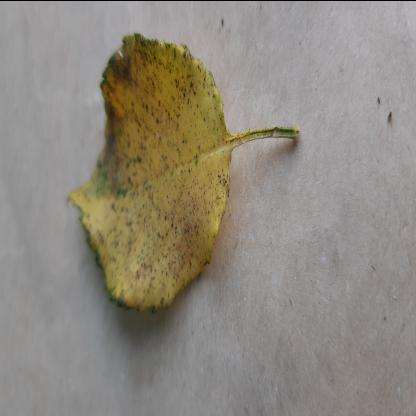black-spot: (66, 31, 233, 312)
